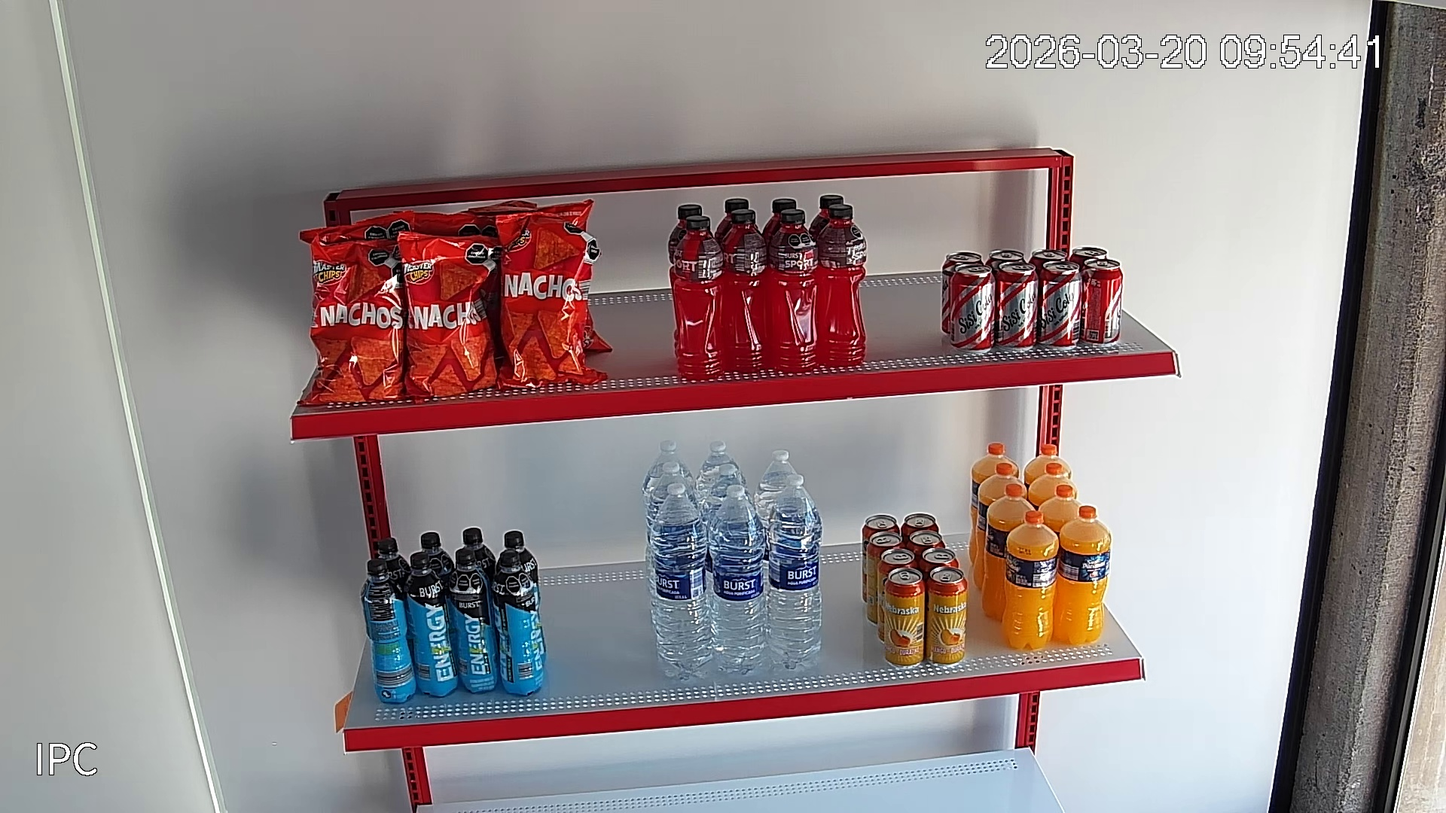agua_burst: (649, 485, 715, 681), (708, 485, 768, 672), (767, 473, 823, 668)
burst_energetica_roja: (673, 215, 725, 377), (720, 209, 771, 371), (769, 207, 818, 371)
burst_energy: (361, 559, 417, 703), (405, 551, 459, 697), (448, 548, 499, 692)
nachos_naturasol: (496, 213, 606, 387), (297, 236, 404, 407), (398, 231, 501, 398)
nebraska_mango: (883, 568, 925, 668), (875, 547, 919, 642), (926, 566, 966, 664)
sisi_cola: (950, 263, 994, 352), (995, 260, 1038, 351), (1037, 261, 1081, 347)
sun_paradise_naranja: (1001, 514, 1059, 654), (1054, 504, 1112, 642), (982, 485, 1036, 620)
